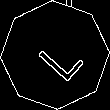L_NW: (26, 26, 84, 84)
